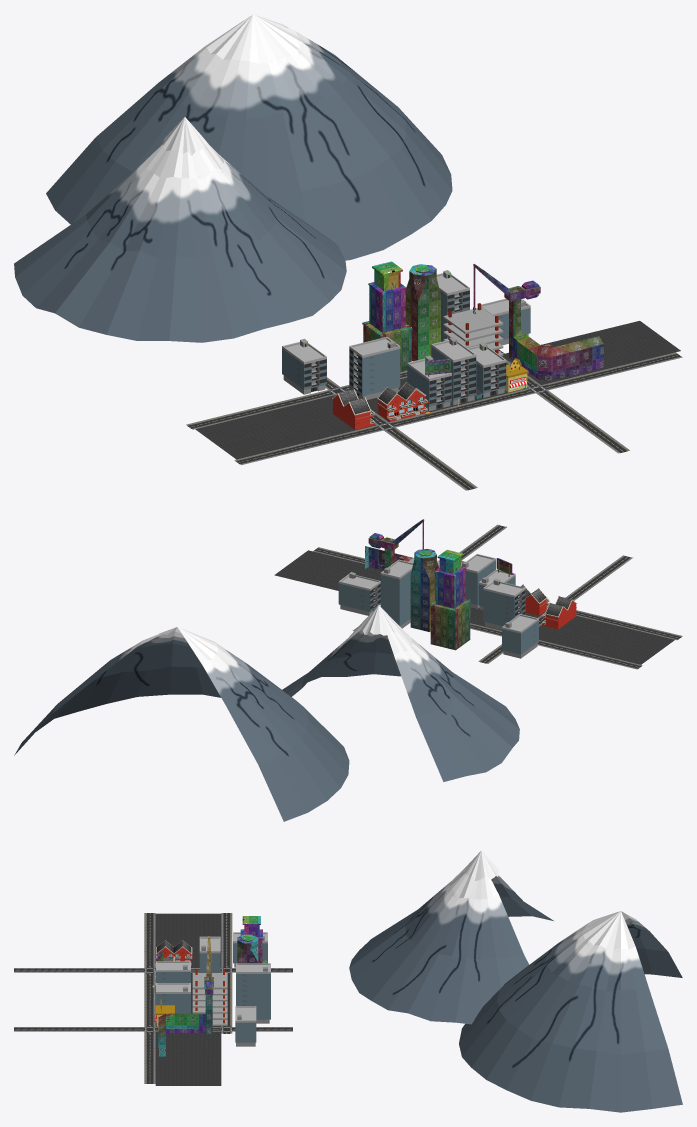
File: FullScene.glb
3 renders of one model, top to bottom at view 1: azimuth 30°, elevation 25°; view 2: azimuth 150°, elevation 25°; view 3: azimuth 270°, elevation 25°, orthographic. The views are drawn at different scales.
Visible parts, largest first — view 1: Cone.001, Cone, GroundPlane.000, skyscraper.005, Cube.006, GroundPlane.002, Cube.007, FlatBlock.002.008, FlatBlock.001.016, Cube.003, FlatBlock.002.003, FlatBlock.001.009 (+12 smaller); view 2: Cone.001, Cone, GroundPlane.000, skyscraper.005, GroundPlane.002, Cube.007, FlatBlock.003.002, FlatBlock.002.008, FlatBlock.001.015, FlatBlock.001.016, FlatBlock.002.003, Terrace.007 (+7 smaller); view 3: Cone.001, Cone, GroundPlane.002, GroundPlane.000, FlatBlock.003.002, Cube.003, Cube.006, FlatBlock.001.014, FlatBlock.001.015, FlatBlock.002.003, Crane.001.001, FlatBlock.002.008 (+9 smaller).
Boxes of the visible parts, x1=… form: Cone.001: x1=46, y1=14, x2=452, y2=260; Cone: x1=14, y1=117, x2=346, y2=342; GroundPlane.000: x1=195, y1=395, x2=375, y2=459; skyscraper.005: x1=362, y1=261, x2=412, y2=372; Cube.006: x1=512, y1=331, x2=603, y2=380; GroundPlane.002: x1=502, y1=321, x2=680, y2=384; Cube.007: x1=405, y1=264, x2=440, y2=361; FlatBlock.002.008: x1=349, y1=337, x2=400, y2=399; FlatBlock.001.016: x1=282, y1=338, x2=326, y2=394; Cube.003: x1=443, y1=303, x2=503, y2=356; FlatBlock.002.003: x1=431, y1=337, x2=476, y2=405; FlatBlock.001.009: x1=407, y1=355, x2=451, y2=411; Cone.001: x1=14, y1=627, x2=349, y2=821; Cone: x1=282, y1=605, x2=519, y2=781; GroundPlane.000: x1=539, y1=616, x2=674, y2=664; skyscraper.005: x1=429, y1=550, x2=471, y2=650; GroundPlane.002: x1=274, y1=550, x2=383, y2=590; Cube.007: x1=410, y1=549, x2=438, y2=631; FlatBlock.003.002: x1=380, y1=559, x2=413, y2=628; FlatBlock.002.008: x1=483, y1=578, x2=525, y2=629; FlatBlock.001.015: x1=338, y1=572, x2=380, y2=615; FlatBlock.001.016: x1=502, y1=614, x2=538, y2=658; FlatBlock.002.003: x1=461, y1=554, x2=495, y2=608; Terrace.007: x1=541, y1=596, x2=577, y2=629; Cone.001: x1=459, y1=911, x2=682, y2=1112; Cone: x1=349, y1=850, x2=554, y2=1024; GroundPlane.002: x1=155, y1=1031, x2=221, y2=1085; GroundPlane.000: x1=155, y1=913, x2=221, y2=967; FlatBlock.003.002: x1=236, y1=963, x2=270, y2=1023; Cube.003: x1=192, y1=969, x2=227, y2=1025; Cube.006: x1=158, y1=1013, x2=205, y2=1056; FlatBlock.001.014: x1=156, y1=983, x2=190, y2=1013; FlatBlock.001.015: x1=235, y1=1006, x2=256, y2=1046; FlatBlock.002.003: x1=156, y1=961, x2=190, y2=982; Crane.001.001: x1=204, y1=936, x2=213, y2=1035; FlatBlock.002.008: x1=199, y1=936, x2=220, y2=972.
Size of the model in its own units: 636 by 214 by 959.
Materials: 11 (10 with a texture image).
